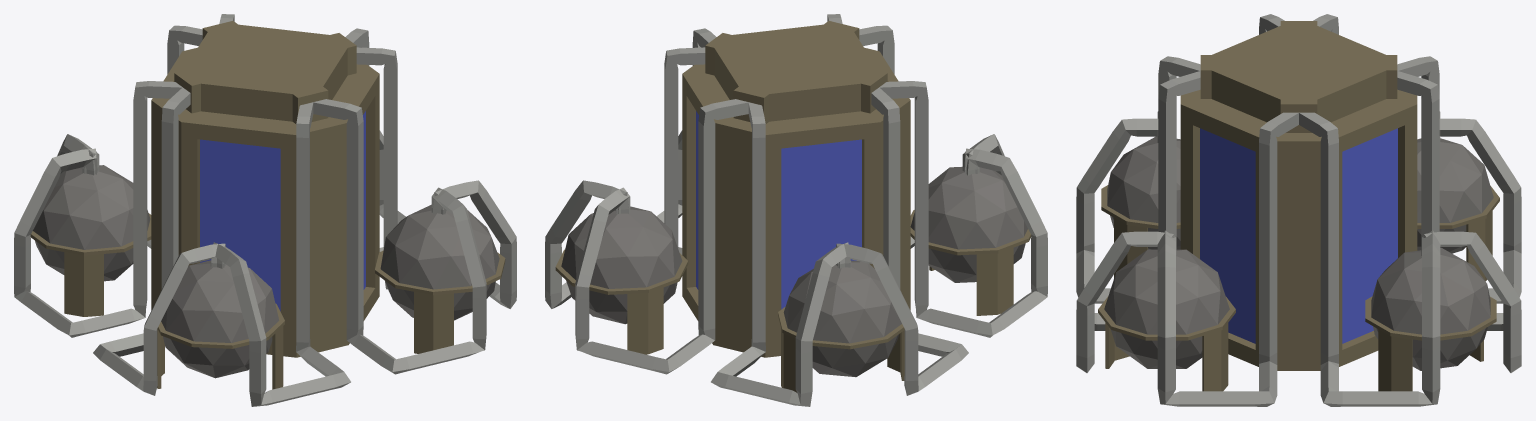
The model's file is Waterrefinery.fbx.
3 views of the same model, side by side, from view 1: azimuth 30°, elevation 25°; view 2: azimuth 150°, elevation 25°; view 3: azimuth 270°, elevation 25° (orthographic). The views are drawn at different scales.
Parts seen in each view (by area): view 1: Icosphere.001; view 2: Icosphere.001; view 3: Icosphere.001.
Boxes of the visible parts, x1,y1,x2,y2 form: Icosphere.001: (14, 14, 516, 406); Icosphere.001: (545, 14, 1047, 406); Icosphere.001: (1076, 14, 1521, 406).
Size of the model in its own units: 337 by 216 by 337.
